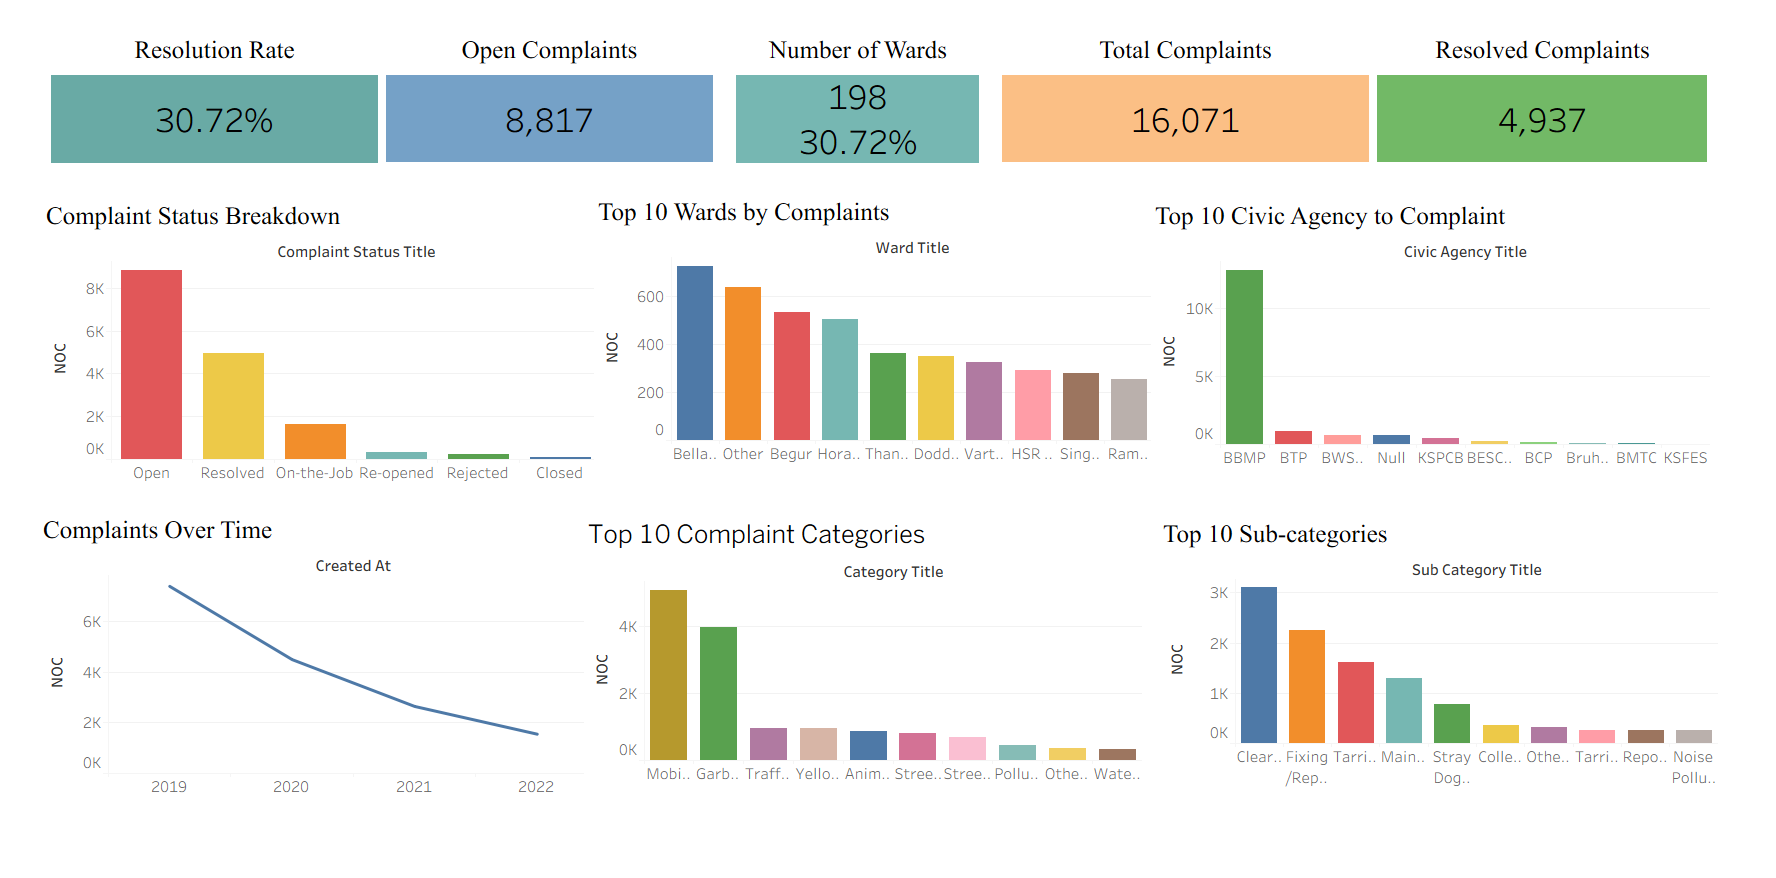

What the dashboard file says about the page in this screenshot:
{"tool":"tableau","page":{"name":"Dashboard 1","canvas":[1000,1000],"units":"permille","ordinal":0},"visuals":[{"type":"worksheet","title":"Sheet 4","mark":"Square","box":[4.8,9.3,188.8,838.4]},{"type":"worksheet","title":"Sheet 2","mark":"Square","box":[193.6,9.3,193.5,981.4]},{"type":"worksheet","title":"Sheet 5","mark":"Square","box":[387.2,9.3,214.7,981.4]},{"type":"worksheet","title":"Sheet 1","mark":"Square","box":[601.8,9.3,210.8,981.4]},{"type":"worksheet","title":"Sheet 3","mark":"Square","box":[812.6,9.3,182.6,981.4]},{"type":"worksheet","title":"Sheet 9","mark":"Automatic","rows":["_id"],"cols":["ward_title"],"box":[330.5,202.3,332.8,332.6]},{"type":"worksheet","title":"Sheet 8","mark":"Automatic","rows":["_id"],"cols":["complaint_status_title"],"box":[1.6,207,332.8,332.6]},{"type":"worksheet","title":"Sheet 11","mark":"Automatic","rows":["_id"],"cols":["civic_agency_title"],"box":[661.7,207,332.8,332.6]},{"type":"worksheet","title":"Sheet 6","mark":"Automatic","rows":["_id"],"cols":["created_at"],"box":[0,572.1,332.9,332.6]},{"type":"worksheet","title":"Sheet 7","mark":"Automatic","rows":["_id"],"cols":["category_title"],"box":[324.5,574.4,332.3,332.6]},{"type":"worksheet","title":"Sheet 10","mark":"Automatic","rows":["_id"],"cols":["sub_category_title"],"box":[666.5,576.7,332.9,332.6]}]}

Visuals, with their boxes on the dashboard's canvas, which has no fixed pixel size, in thousandths of its width and height (x1, y1, x2, y2). These are canvas units, not pixel positions in the 1776x878 screenshot, which may show the page scaled, cropped or inside an application window:
"Sheet 4" worksheet (Square marks): bbox=[5, 9, 194, 848]
"Sheet 2" worksheet (Square marks): bbox=[194, 9, 387, 991]
"Sheet 5" worksheet (Square marks): bbox=[387, 9, 602, 991]
"Sheet 1" worksheet (Square marks): bbox=[602, 9, 813, 991]
"Sheet 3" worksheet (Square marks): bbox=[813, 9, 995, 991]
"Sheet 9" worksheet: bbox=[330, 202, 663, 535]
"Sheet 8" worksheet: bbox=[2, 207, 334, 540]
"Sheet 11" worksheet: bbox=[662, 207, 994, 540]
"Sheet 6" worksheet: bbox=[0, 572, 333, 905]
"Sheet 7" worksheet: bbox=[324, 574, 657, 907]
"Sheet 10" worksheet: bbox=[666, 577, 999, 909]
